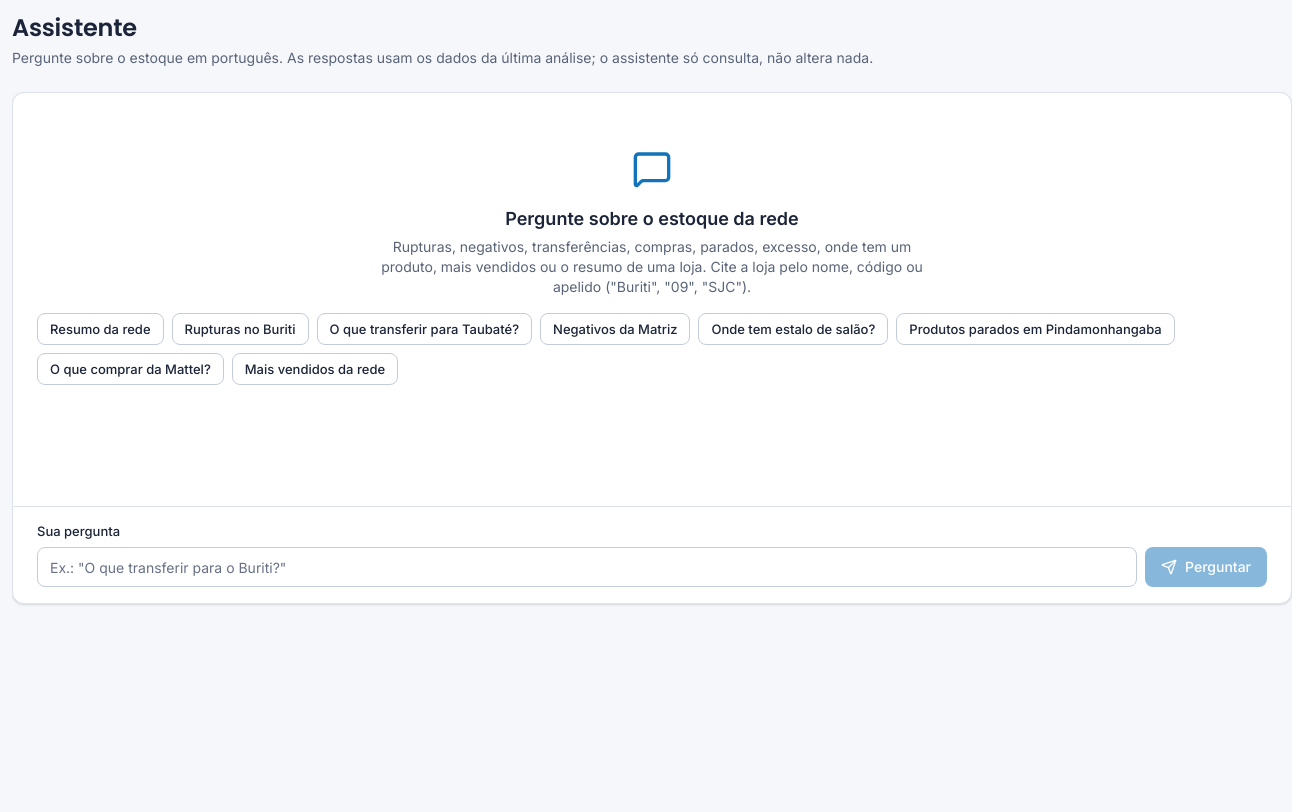
AssistantPage › não quebra quando o navegador faz scrollIntoView devolver uma Promise (Chrome recente)
Click the button "Rupturas no Buriti" at (240, 329), box [172,313,308,345]
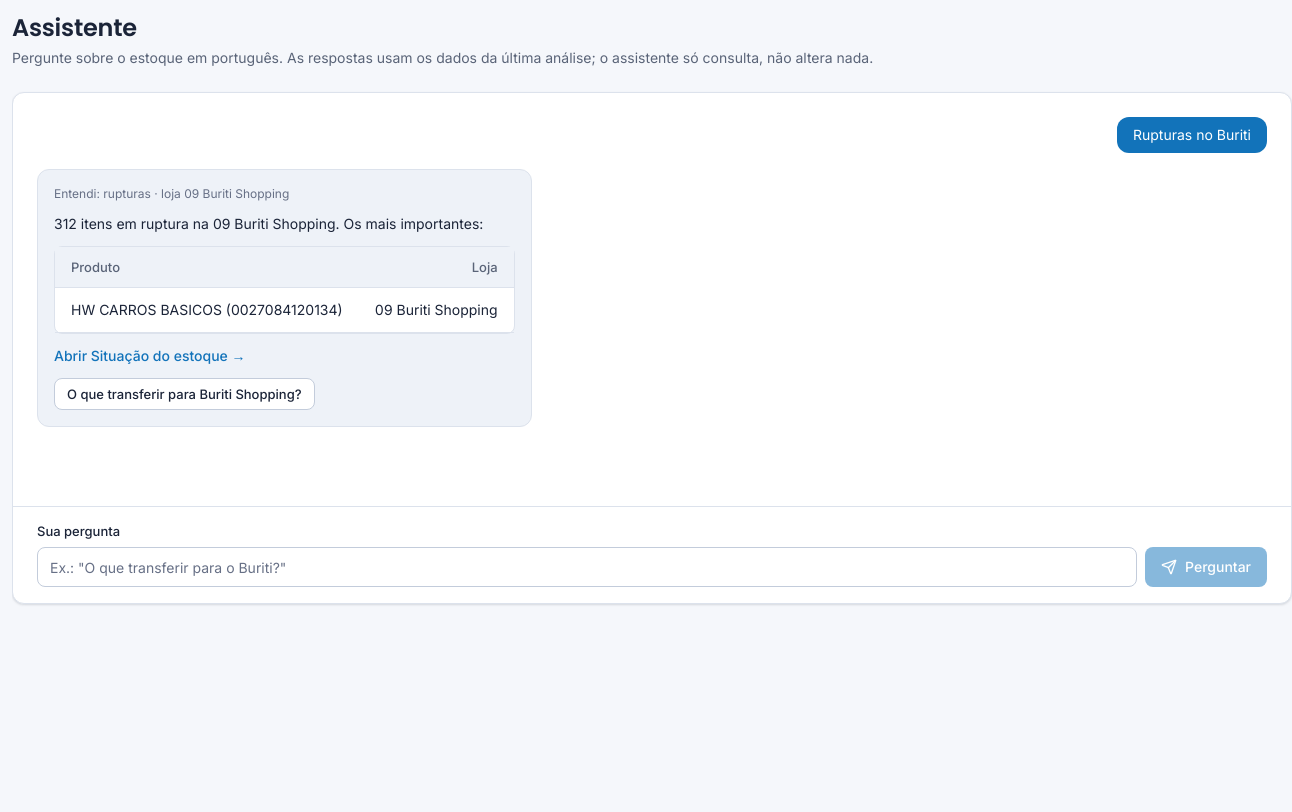
Check: the text "Entendi: rupturas · loja 09 Buriti Shopping" is shown, box [54,186,289,201]
